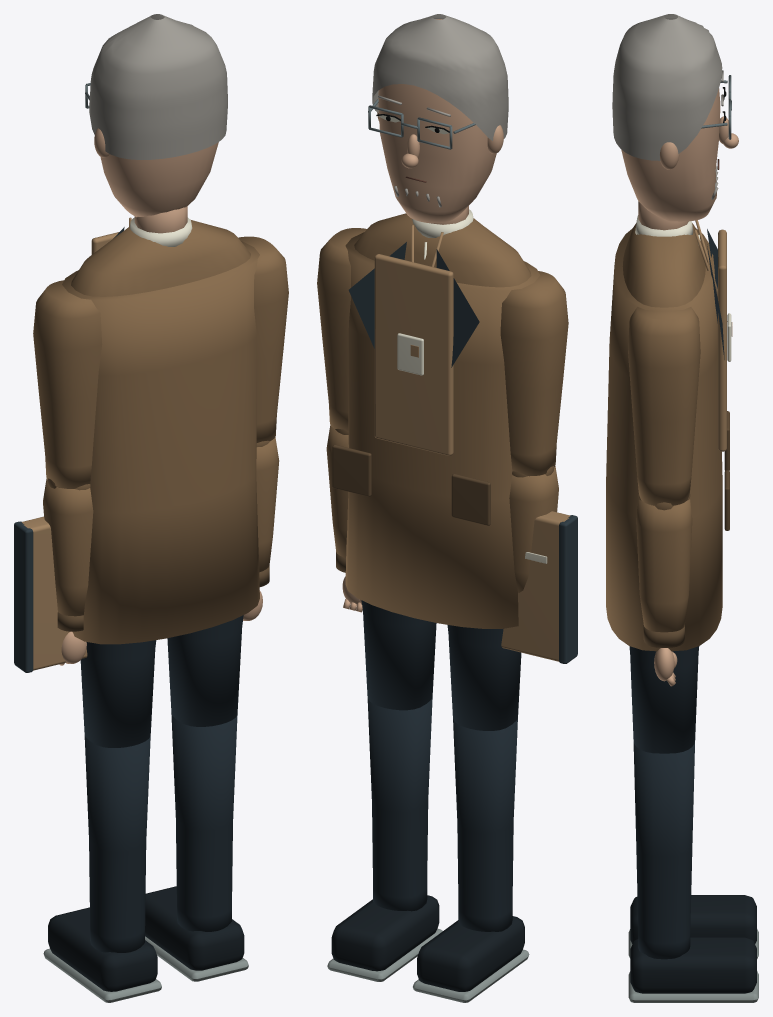
The model's file is npc_physics.glb.
3 renders of one model, left to right at view 1: azimuth 30°, elevation 25°; view 2: azimuth 150°, elevation 25°; view 3: azimuth 270°, elevation 25°, orthographic.
Parts seen in each view (by area): view 1: OpenCoat, Eyebrow, Knee, Knee.001, Sleeve, TrouserThigh, TrouserThigh.001, AdultFace, Sleeve.001, ElbowTransition, OrdinaryShoe, OrdinaryShoe.001 (+8 smaller); view 2: OpenCoat, IDPhoto, Knee, Knee.001, AdultFace, Sleeve, Eyebrow, TrouserThigh, TrouserThigh.001, Sleeve.001, OrdinaryShoe.001, OrdinaryShoe (+10 smaller); view 3: OpenCoat, Eyebrow, Sleeve.001, Knee.001, AdultFace, ElbowTransition.001, OrdinaryShoe.001, TrouserThigh.001, OrdinaryShoe, IDPhoto, ShoeSole.001, IDCard (+6 smaller).
Boxes of the visible parts, bbox=[...] form: OpenCoat: bbox=[62, 219, 259, 644]; Eyebrow: bbox=[89, 14, 227, 159]; Knee: bbox=[84, 735, 150, 952]; Knee.001: bbox=[171, 713, 237, 931]; Sleeve: bbox=[33, 280, 102, 488]; TrouserThigh: bbox=[80, 640, 156, 747]; TrouserThigh.001: bbox=[167, 615, 243, 726]; AdultFace: bbox=[94, 128, 218, 217]; Sleeve.001: bbox=[238, 236, 288, 442]; ElbowTransition: bbox=[43, 478, 93, 616]; OrdinaryShoe: bbox=[48, 907, 157, 991]; OrdinaryShoe.001: bbox=[145, 886, 244, 970]; OpenCoat: bbox=[345, 213, 539, 628]; IDPhoto: bbox=[374, 225, 453, 455]; Knee: bbox=[453, 718, 517, 931]; Knee.001: bbox=[367, 697, 432, 911]; AdultFace: bbox=[377, 19, 503, 223]; Sleeve: bbox=[500, 271, 568, 476]; Eyebrow: bbox=[372, 14, 508, 207]; TrouserThigh: bbox=[447, 625, 521, 730]; TrouserThigh.001: bbox=[361, 600, 436, 710]; Sleeve.001: bbox=[317, 228, 366, 430]; OrdinaryShoe.001: bbox=[331, 895, 439, 971]; OrdinaryShoe: bbox=[417, 916, 524, 991]; OpenCoat: bbox=[606, 223, 722, 651]; Eyebrow: bbox=[612, 14, 723, 199]; Sleeve.001: bbox=[628, 307, 700, 505]; Knee.001: bbox=[633, 742, 694, 959]; AdultFace: bbox=[621, 88, 738, 221]; ElbowTransition.001: bbox=[636, 493, 692, 632]; OrdinaryShoe.001: bbox=[630, 937, 756, 993]; TrouserThigh.001: bbox=[629, 646, 699, 753]; OrdinaryShoe: bbox=[630, 895, 756, 943]; IDPhoto: bbox=[694, 220, 732, 451]; ShoeSole.001: bbox=[628, 971, 758, 1002]; IDCard: bbox=[635, 215, 731, 361].
Size of the model in its own units: 0.434 by 1.54 by 0.223.
